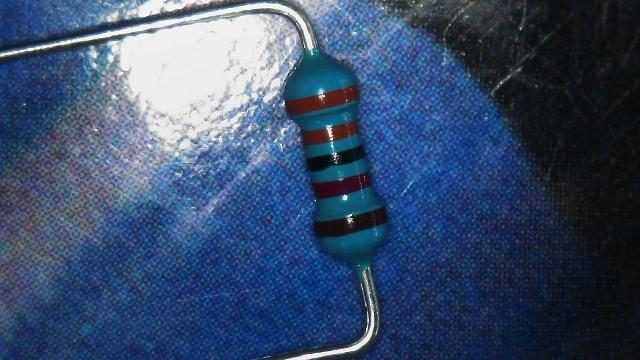black: (308, 145, 364, 170)
brown: (315, 207, 387, 238)
orange: (286, 85, 358, 115), (303, 121, 359, 144)
red: (314, 172, 371, 198)
resistor: (260, 49, 409, 269)
